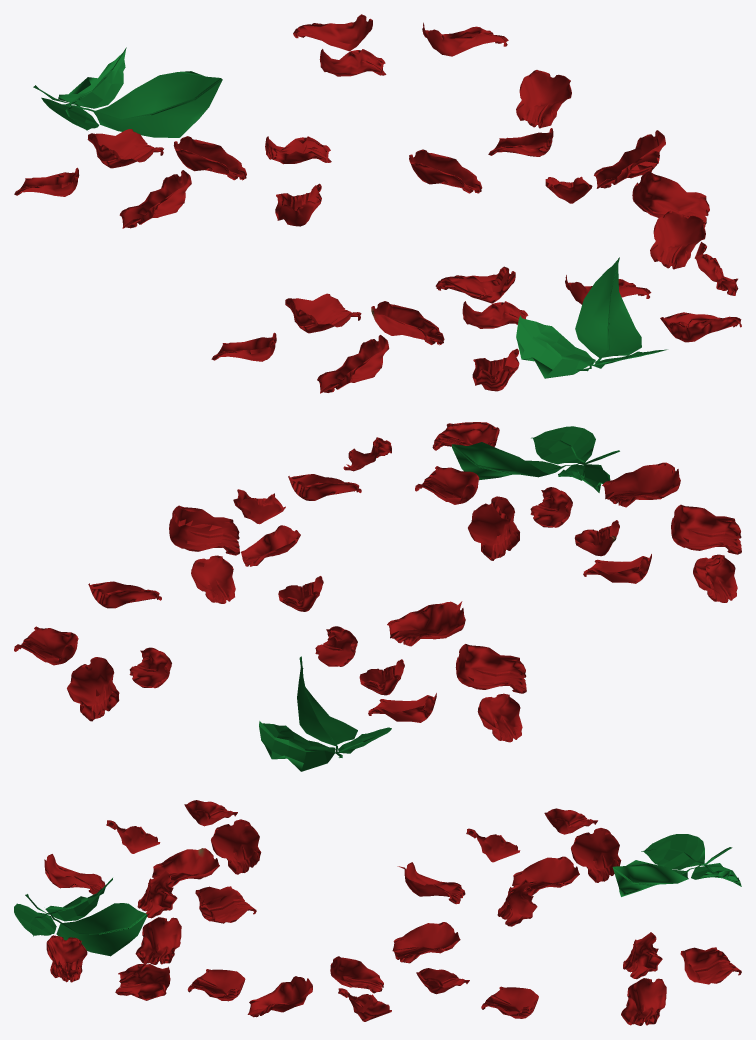
The model's file is RosasCaidas.fbx.
3 renders of one model, top to bottom at view 1: azimuth 30°, elevation 25°; view 2: azimuth 150°, elevation 25°; view 3: azimuth 270°, elevation 25°, orthographic. The views are drawn at different scales.
Parts seen in each view (by area): view 1: RosasCaidas; view 2: RosasCaidas; view 3: RosasCaidas.
Boxes of the visible parts, <box> form: RosasCaidas: <box>14,14,741,393</box>; RosasCaidas: <box>14,422,741,771</box>; RosasCaidas: <box>14,800,741,1025</box>.
Bounding box in the file's own units: 50.81 × 4.93 × 71.49.
1 material, 1 textured.
